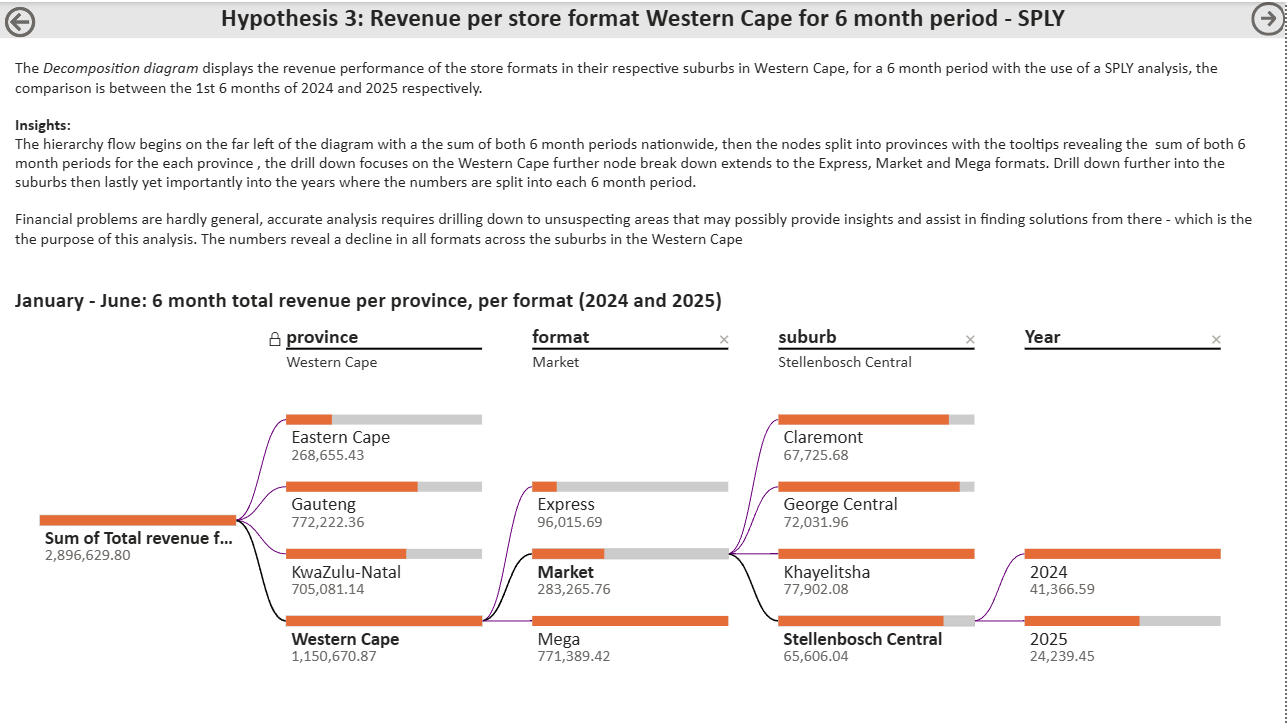

The dashboard page shown, as its layout file describes it:
{"tool":"powerbi","page":{"name":"Hypothesis 3","canvas":[1280,720],"ordinal":3},"visuals":[{"type":"textbox","title":"Hypothesis 3: Revenue per store format Western Cape for 6 month period - SPLY","box":[0,0,1280,36],"z":0},{"type":"decompositionTreeVisual","title":"January - June: 6 month total revenue per province, per format (2024 and 2025)","fields":{"ExplainBy":["stores.province","stores.format","stores.suburb","transactions.transaction_date.Variation.Date Hierarchy.Year"],"Analyze":["Sum(transaction_items.Total revenue for transactions)"]},"box":[10,283.6,1252.7,421.7],"z":1000},{"type":"textbox","box":[10,51,1252.7,212.7],"z":2000},{"type":"actionButton","box":[0,0,47.3,39.8],"z":3000},{"type":"actionButton","box":[1245.2,0,34.8,33.6],"z":4000},{"type":"actionButton","box":[0,0,100,40],"z":5000}]}

Visuals, with their boxes in screenshot pixels (x1, y1, x2, y2), scaled from the page's 1280x720 canvas onto the 1287x725 screenshot:
"Hypothesis 3: Revenue per store format Western Cape for 6 month period - SPLY" textbox: 0/0/1286/36
"January - June: 6 month total revenue per province, per format (2024 and 2025)" decompositionTreeVisual: 10/286/1270/710
textbox: 10/51/1270/266
actionButton: 0/0/48/40
actionButton: 1252/0/1286/34
actionButton: 0/0/101/40
